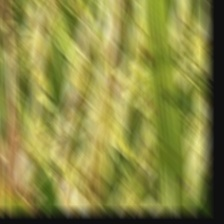Leaf_Blast: (0, 0, 26, 197)
